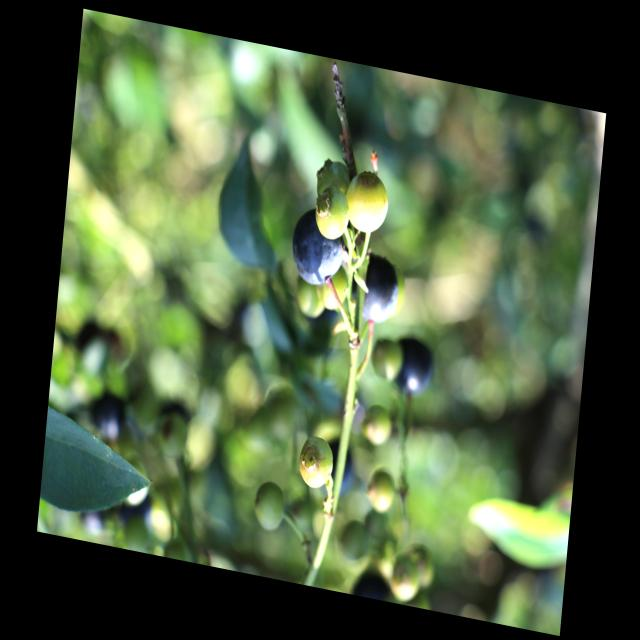blueberry: (288, 208, 347, 286), (343, 250, 402, 325), (391, 334, 436, 397), (320, 437, 356, 498)
blueberry-unripe: (343, 168, 392, 240), (296, 432, 335, 491), (314, 186, 351, 241), (254, 483, 285, 533), (312, 156, 350, 196), (362, 405, 393, 447)
